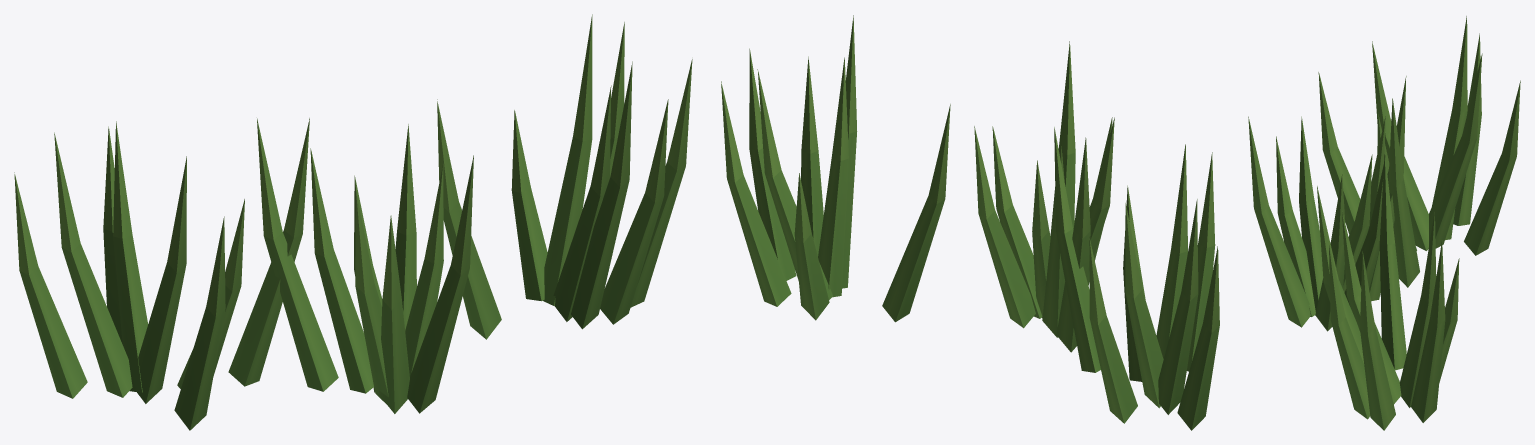
The model's file is SM_Grass_Clump02.fbx.
3 renders of one model, left to right at view 1: azimuth 30°, elevation 25°; view 2: azimuth 150°, elevation 25°; view 3: azimuth 270°, elevation 25°, orthographic. The views are drawn at different scales.
Visible parts, largest first — view 1: SM_Grass_Clump02; view 2: SM_Grass_Clump02; view 3: SM_Grass_Clump02.
Part boxes in pixels (left/top/right/bottom): SM_Grass_Clump02: left=14, top=14, right=692, bottom=430; SM_Grass_Clump02: left=721, top=15, right=1219, bottom=430; SM_Grass_Clump02: left=1248, top=16, right=1520, bottom=430.
Size of the model in its own units: 2.6 by 1.17 by 1.28.
Materials: 1 (1 with a texture image).
